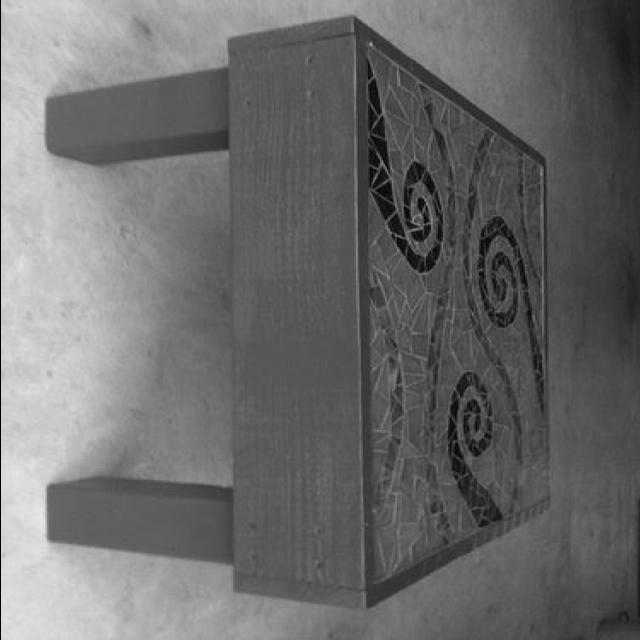table: (44, 18, 552, 613)
